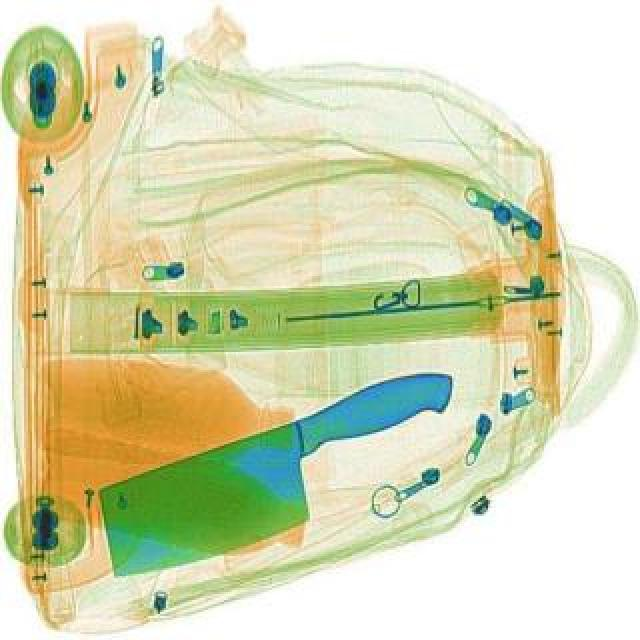knife: (74, 348, 486, 598)
